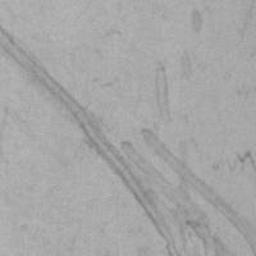Water spot: (0, 26, 256, 256), (152, 64, 175, 127)
